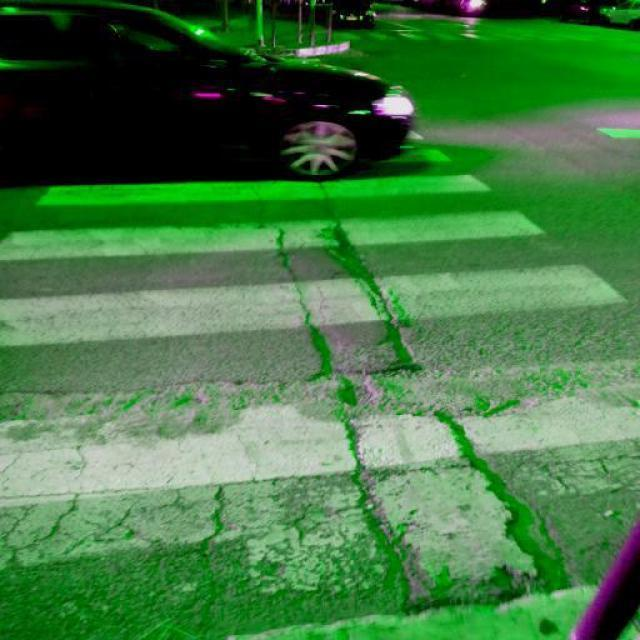crosswalk: (2, 143, 639, 640)
